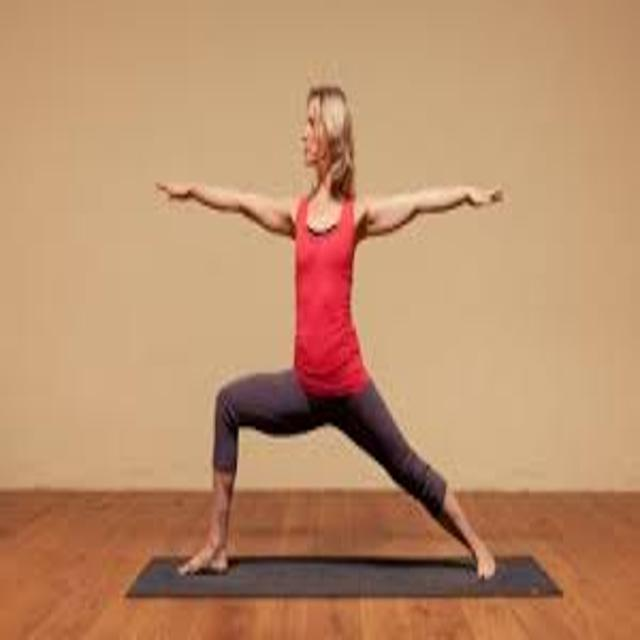Warrior_II: (147, 81, 527, 589)
